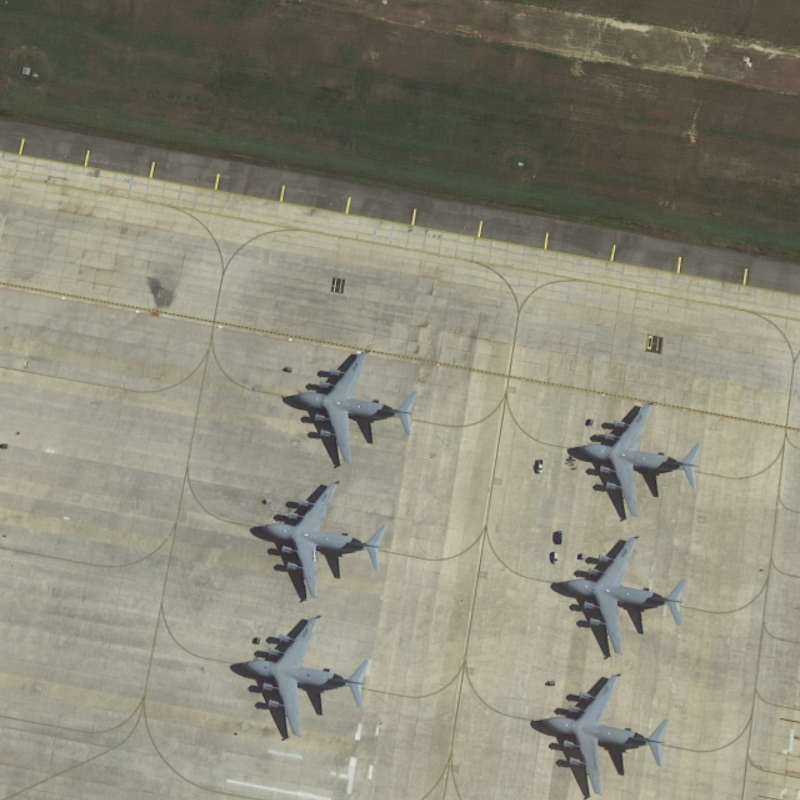A3: (520, 665, 672, 794), (233, 611, 375, 743), (248, 478, 392, 605), (551, 533, 694, 659), (573, 396, 706, 524), (287, 345, 422, 470)
